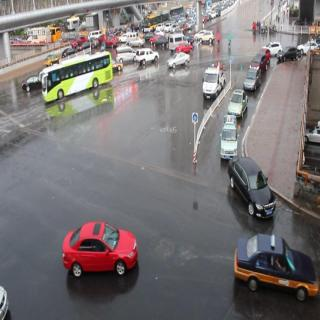BigCar: (40, 52, 113, 104), (143, 12, 156, 32)
Car: (234, 231, 319, 308), (60, 223, 141, 282), (227, 155, 278, 220), (219, 111, 242, 159), (202, 61, 225, 100), (228, 87, 249, 116), (137, 48, 160, 70), (277, 46, 302, 64), (167, 53, 191, 71), (115, 46, 135, 66), (243, 68, 261, 90), (177, 40, 193, 55), (153, 36, 168, 51), (200, 30, 214, 45), (130, 36, 145, 48)
